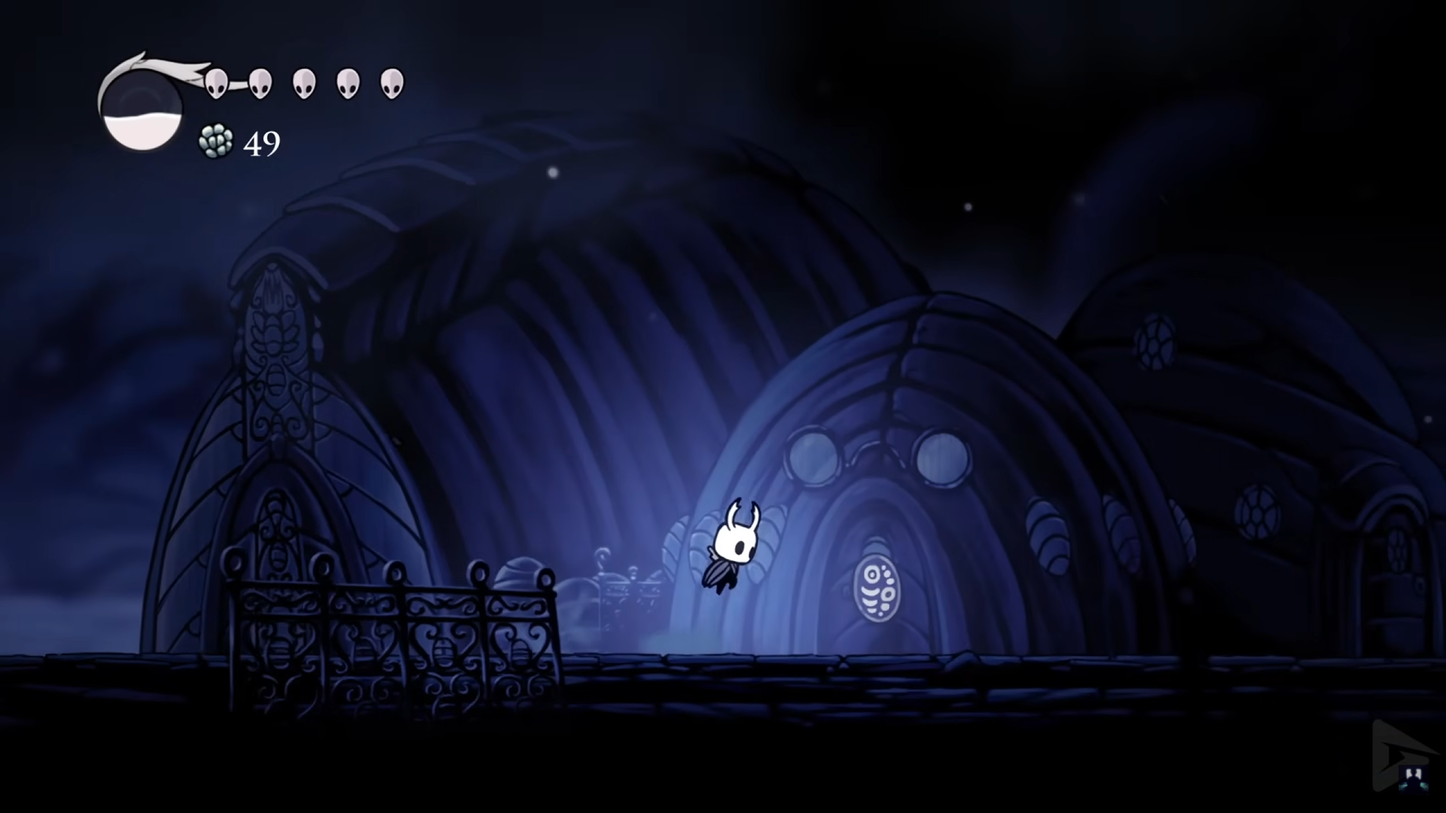HK: (700, 496, 764, 601)
